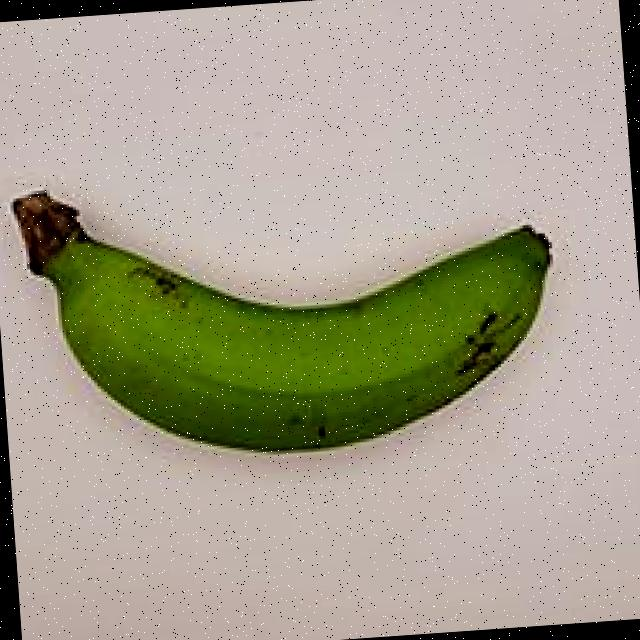Raw: (0, 116, 590, 505)
